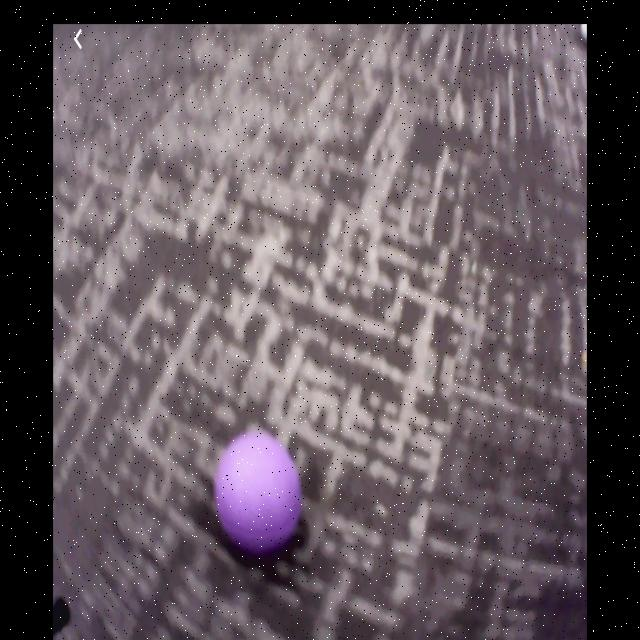ball: (215, 431, 302, 551)
